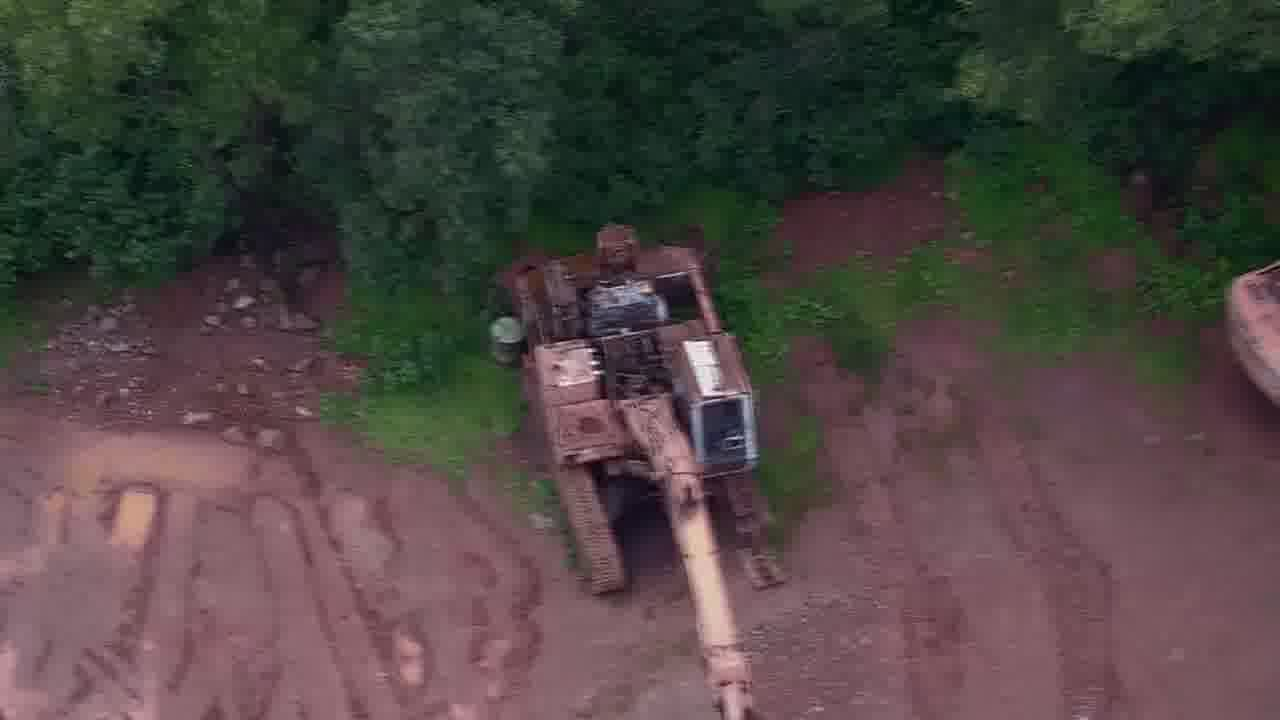HMV: (500, 223, 797, 720)
